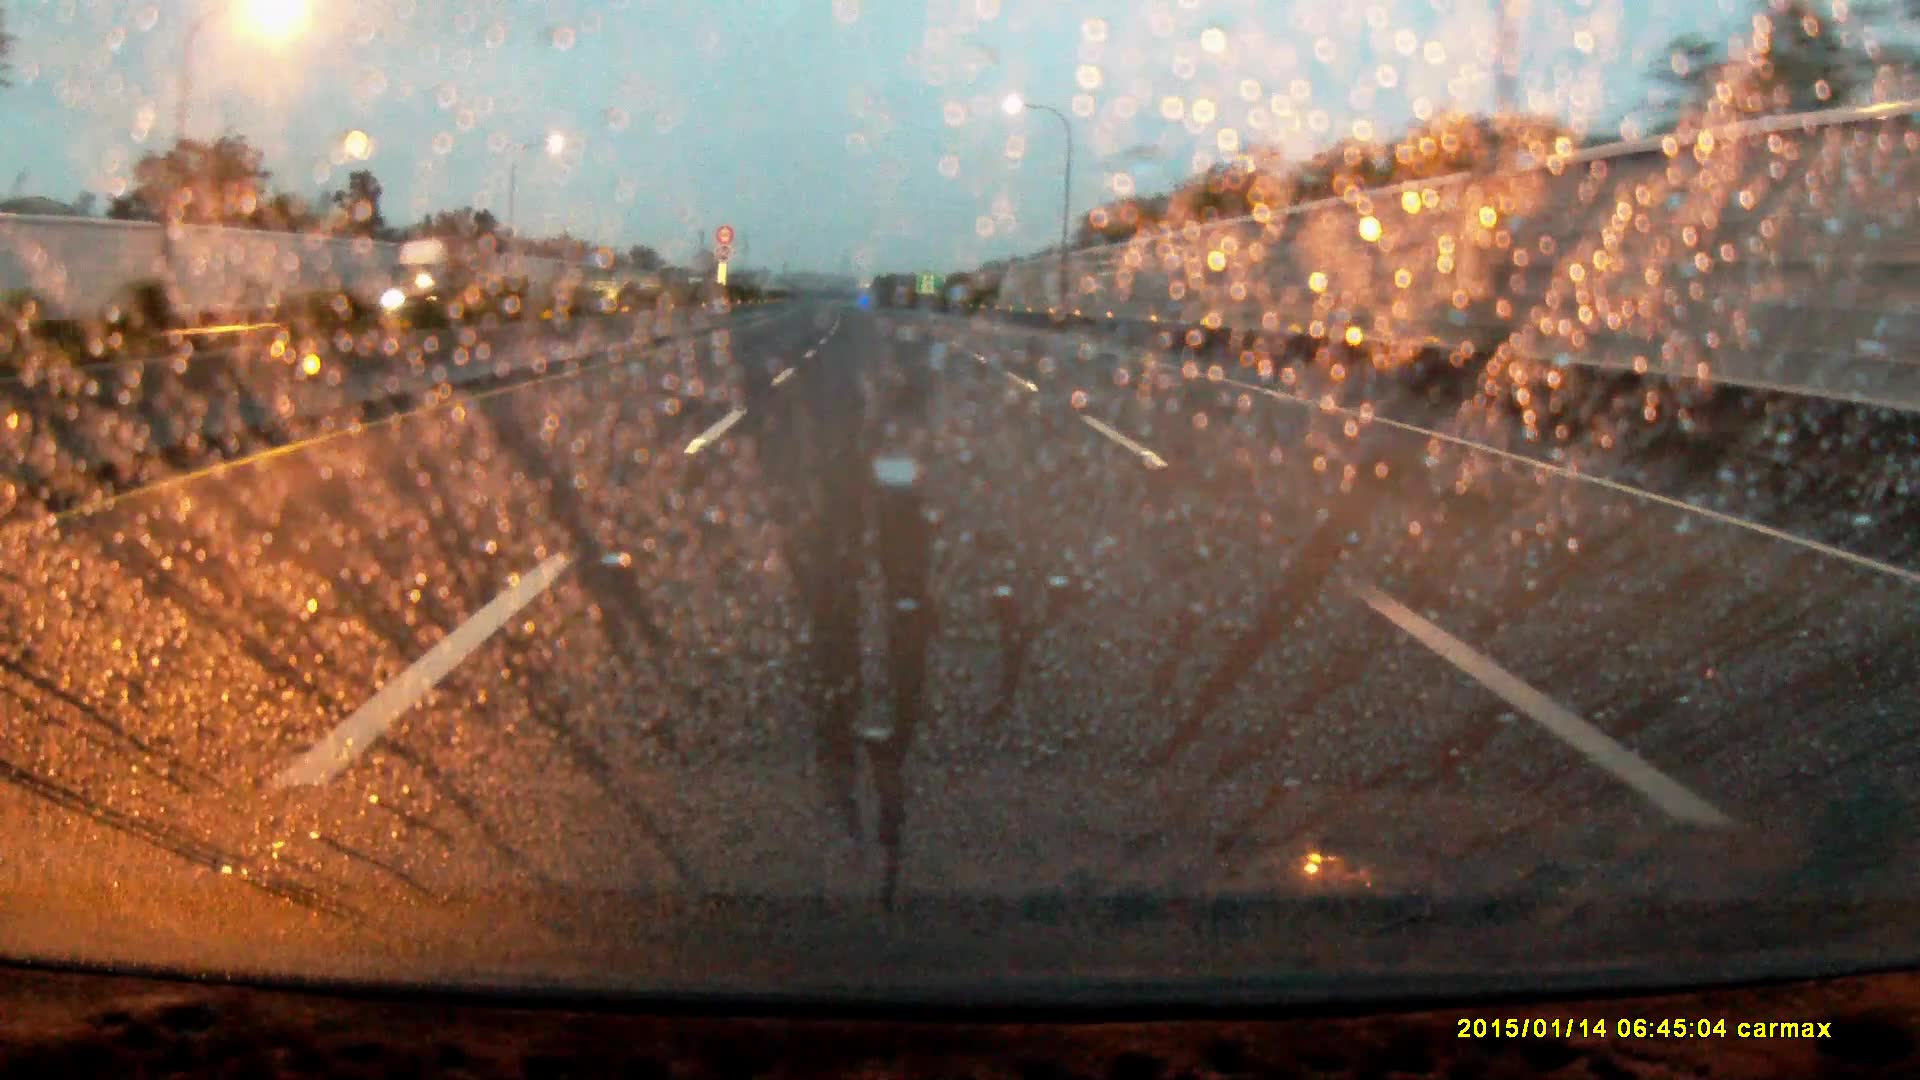vehicle: (375, 235, 495, 316)
